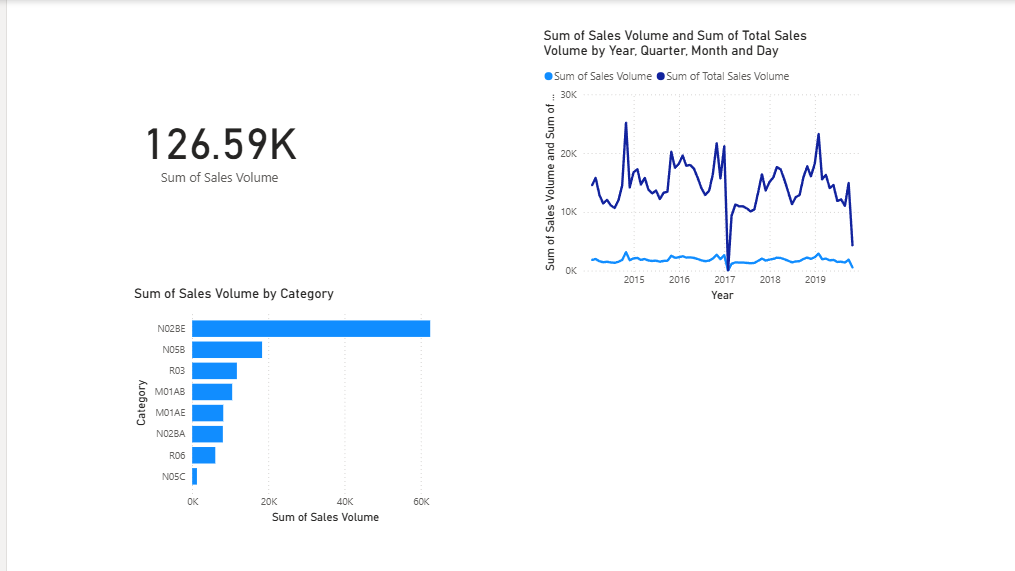

Layout of this report page (visuals, bound fields, positions):
{"tool":"powerbi","page":{"name":"Page 1","canvas":[1280,720],"ordinal":0},"visuals":[{"type":"lineChart","fields":{"Y":["Sum(Sales analysis.Sales Volume)","Sum(Sales analysis.Total Sales Volume)"],"Category":["Sales analysis.datum.Variation.Date Hierarchy.Year","Sales analysis.datum.Variation.Date Hierarchy.Quarter","Sales analysis.datum.Variation.Date Hierarchy.Month","Sales analysis.datum.Variation.Date Hierarchy.Day"]},"box":[670.9,34,412,349.6],"z":0},{"type":"card","fields":{"Values":["Sum(Sales analysis.Sales Volume)"]},"box":[117.2,34,300.5,300.5],"z":1000},{"type":"clusteredBarChart","fields":{"Category":["Sales analysis.Category"],"Y":["Sum(Sales analysis.Sales Volume)"]},"box":[155,359.1,429,304.3],"z":2000}]}

Visuals, with their boxes in screenshot pixels (x1, y1, x2, y2), scaled from the page's 1280x720 canvas onto the 1015x571 screenshot:
lineChart - Sum(Sales analysis.Sales Volume) x Sum(Sales analysis.Total Sales Volume): x1=532, y1=27, x2=859, y2=304
card - Sum(Sales analysis.Sales Volume): x1=93, y1=27, x2=331, y2=265
clusteredBarChart - Sales analysis.Category x Sum(Sales analysis.Sales Volume): x1=123, y1=285, x2=463, y2=526
